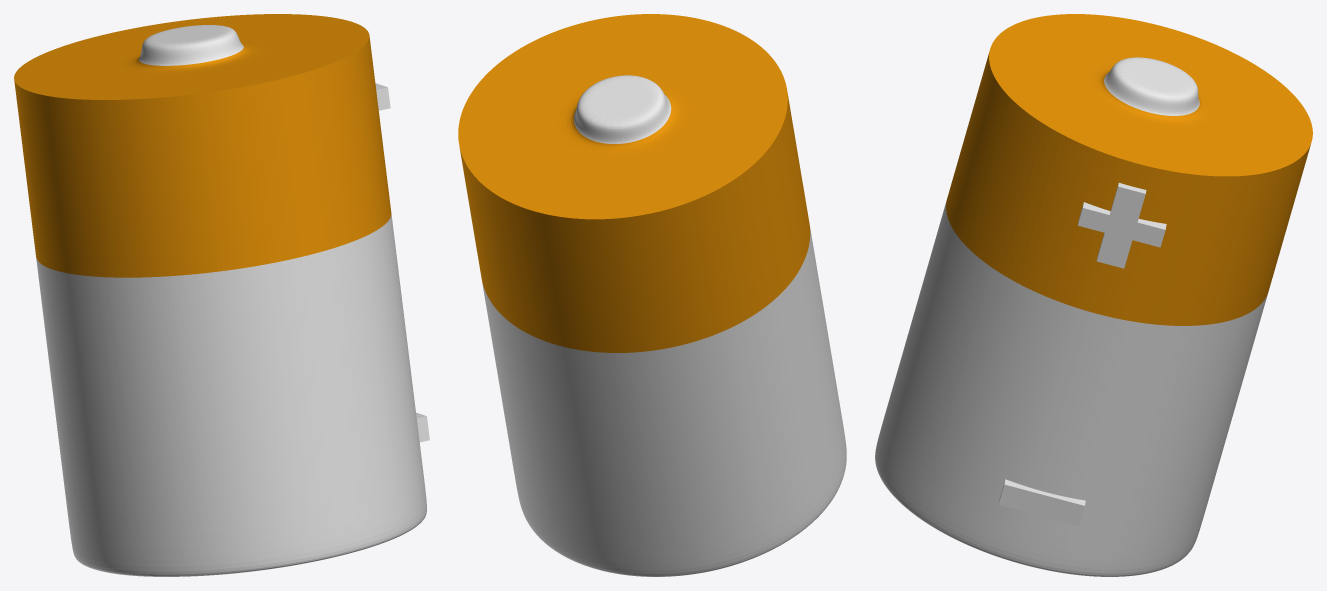
File: item_battery.glb
3 views of the same model, side by side, from view 1: azimuth 30°, elevation 25°; view 2: azimuth 150°, elevation 25°; view 3: azimuth 270°, elevation 25° (orthographic). The views are drawn at different scales.
Parts seen in each view (by area): view 1: 円柱; view 2: 円柱; view 3: 円柱, 立方体.001, 立方体.
Part boxes in pixels (x1,y1,x2,y2): 円柱: [14, 14, 426, 576]; 円柱: [458, 14, 846, 576]; 円柱: [875, 14, 1312, 576]; 立方体.001: [1078, 183, 1166, 268]; 立方体: [998, 479, 1085, 525].
Bounding box in the file's own units: 2.07 × 3.14 × 2.6.
